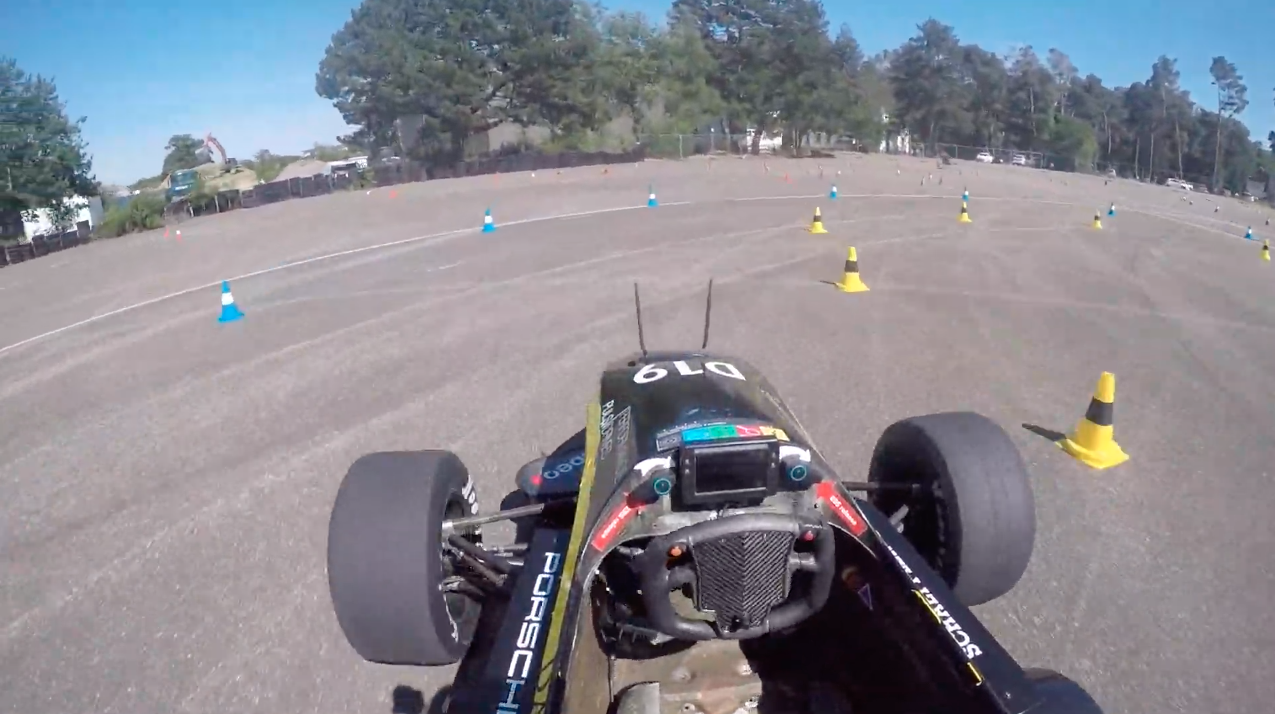lcone: (211, 280, 247, 330), (478, 205, 501, 236), (643, 185, 662, 210)
rcone: (1051, 366, 1135, 474), (827, 243, 874, 297), (804, 202, 831, 236), (955, 201, 974, 224)
